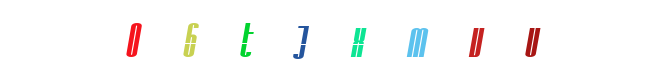0: (150, 0, 230, 80)
6: (205, 0, 285, 80)
J: (294, 0, 374, 80)
M: (324, 0, 404, 80)
T: (262, 0, 342, 80)
U: (361, 0, 441, 80)
V: (330, 0, 410, 80)
X: (310, 0, 390, 80)
